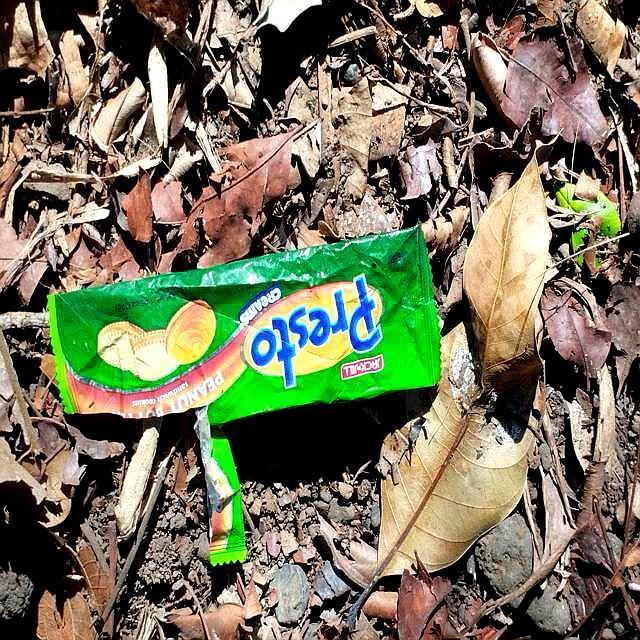Non-biodegradable: (41, 221, 445, 443)
